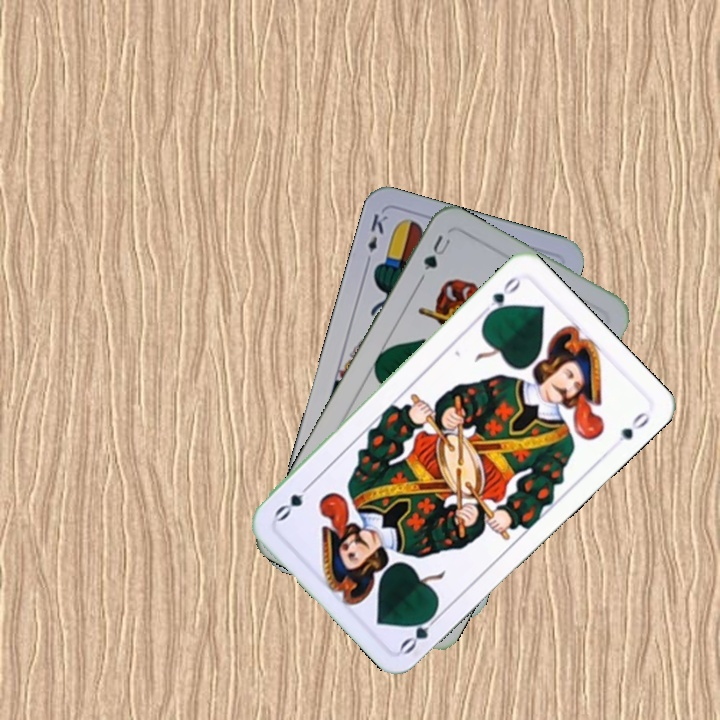EK: (361, 209, 391, 268)
GO: (396, 605, 445, 657), (476, 272, 523, 321)
GU: (419, 230, 454, 273)
